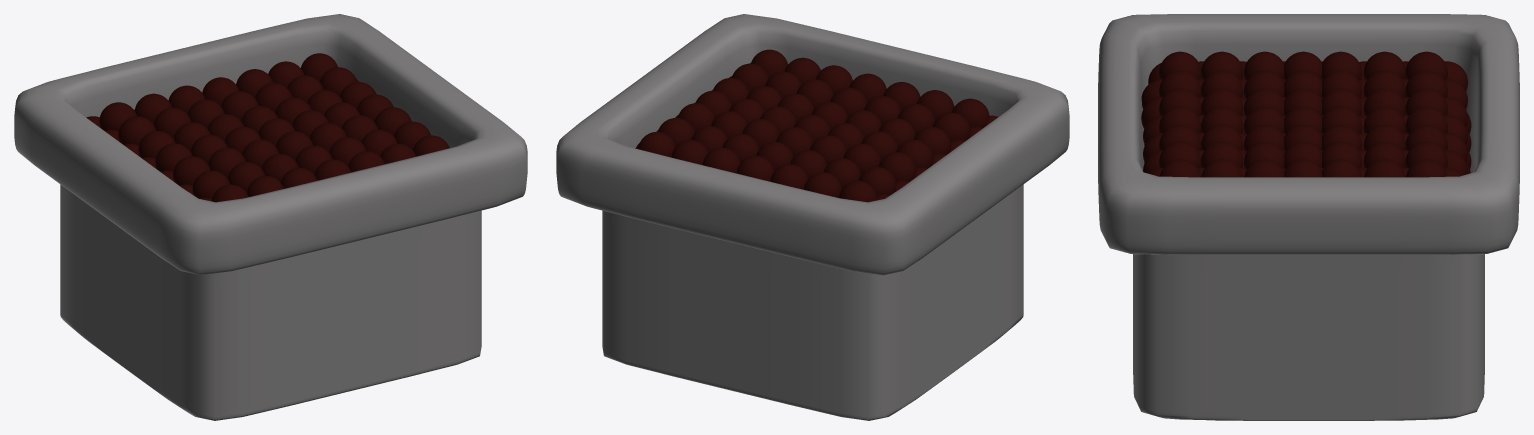
The model's file is CuencoBolitasChocolate.fbx.
3 views of the same model, side by side, from view 1: azimuth 30°, elevation 25°; view 2: azimuth 150°, elevation 25°; view 3: azimuth 270°, elevation 25° (orthographic). The views are drawn at different scales.
Visible parts, largest first — view 1: Cuenco, Bolitas; view 2: Cuenco, Bolitas; view 3: Cuenco, Bolitas.
Boxes of the visible parts, bbox=[...] form: Cuenco: bbox=[14, 14, 527, 420]; Bolitas: bbox=[86, 53, 449, 202]; Cuenco: bbox=[556, 14, 1069, 420]; Bolitas: bbox=[635, 49, 997, 202]; Cuenco: bbox=[1098, 14, 1519, 420]; Bolitas: bbox=[1141, 51, 1471, 177].
Bounding box in the file's own units: 253 × 153 × 240.
